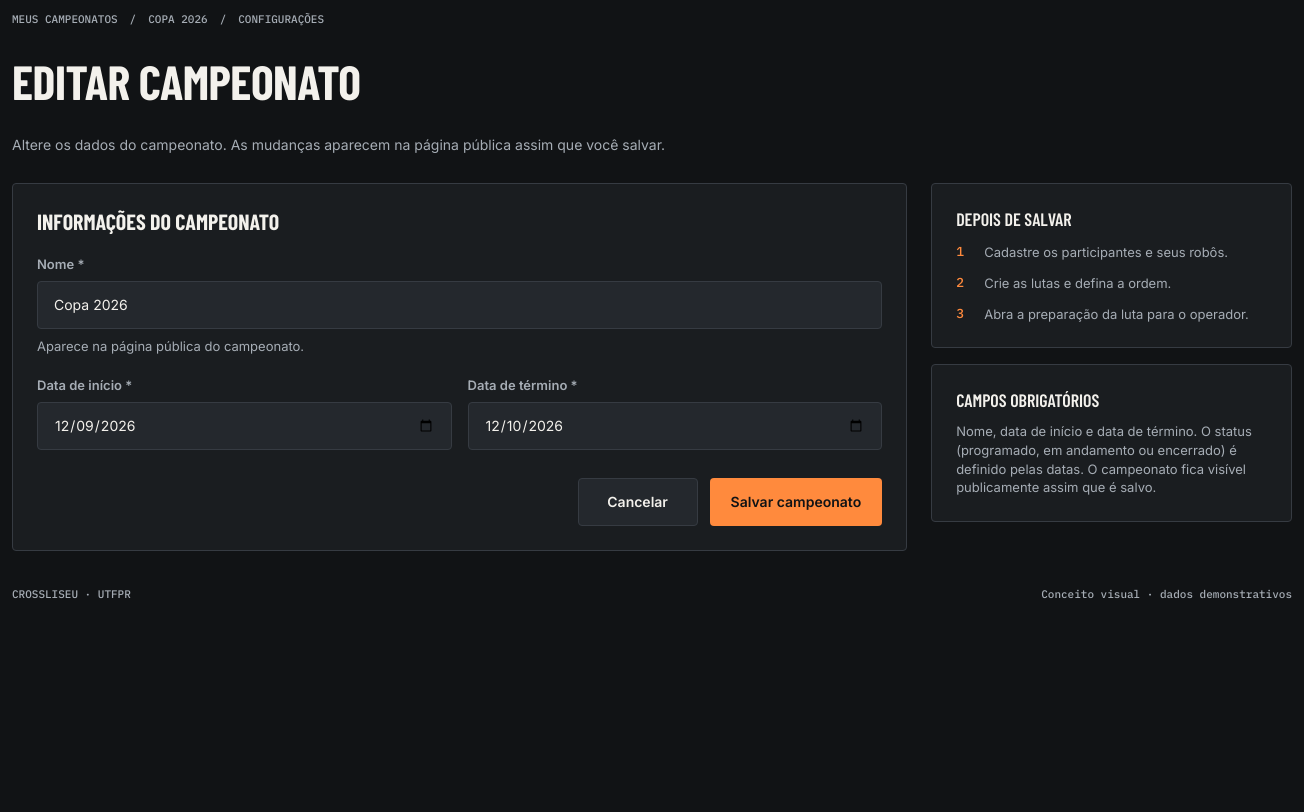
ChampionshipFormView › edit: saves, stays on the page and keeps the confirmation visible
The width and height of the screenshot is (1304, 812).
Replace the text in the field named "name" with "Copa Nova" at (460, 305), box [37,281,882,329]
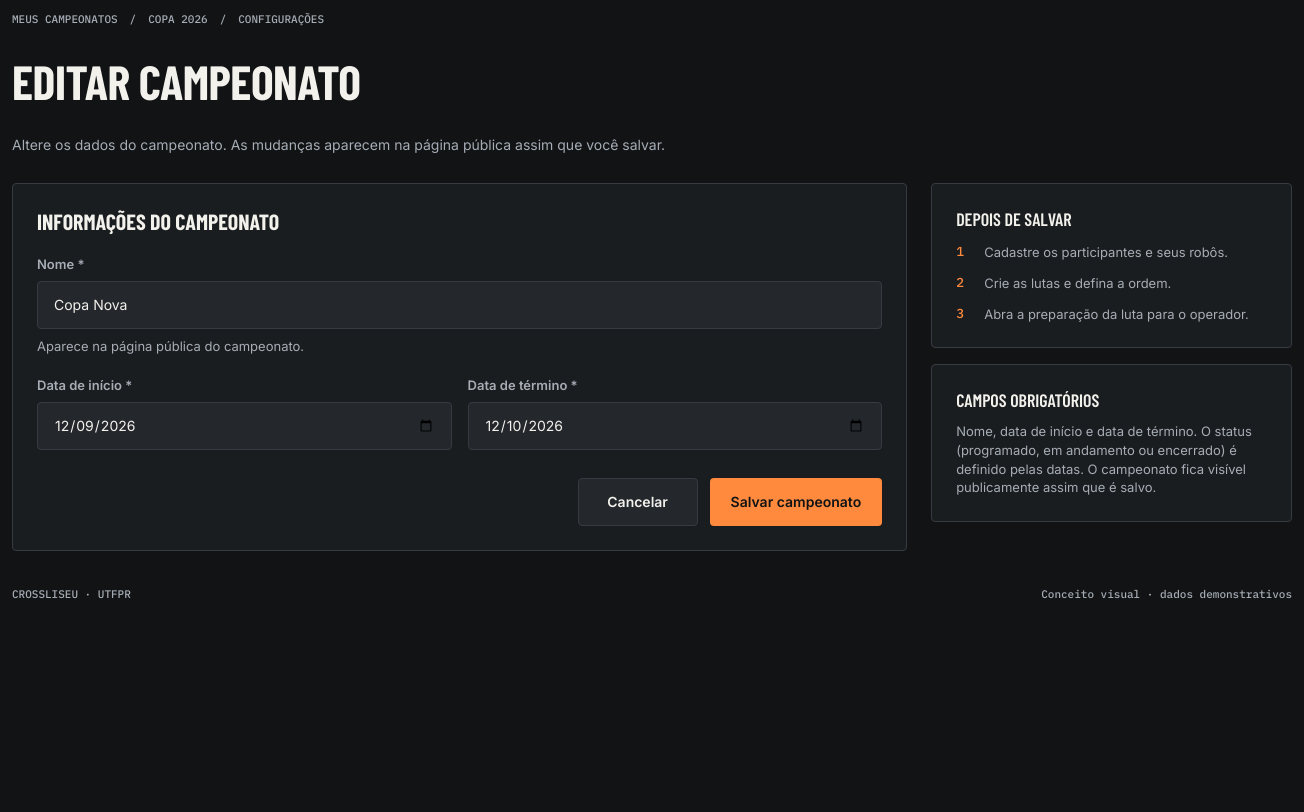
Submit the form, box [12,183,907,551]
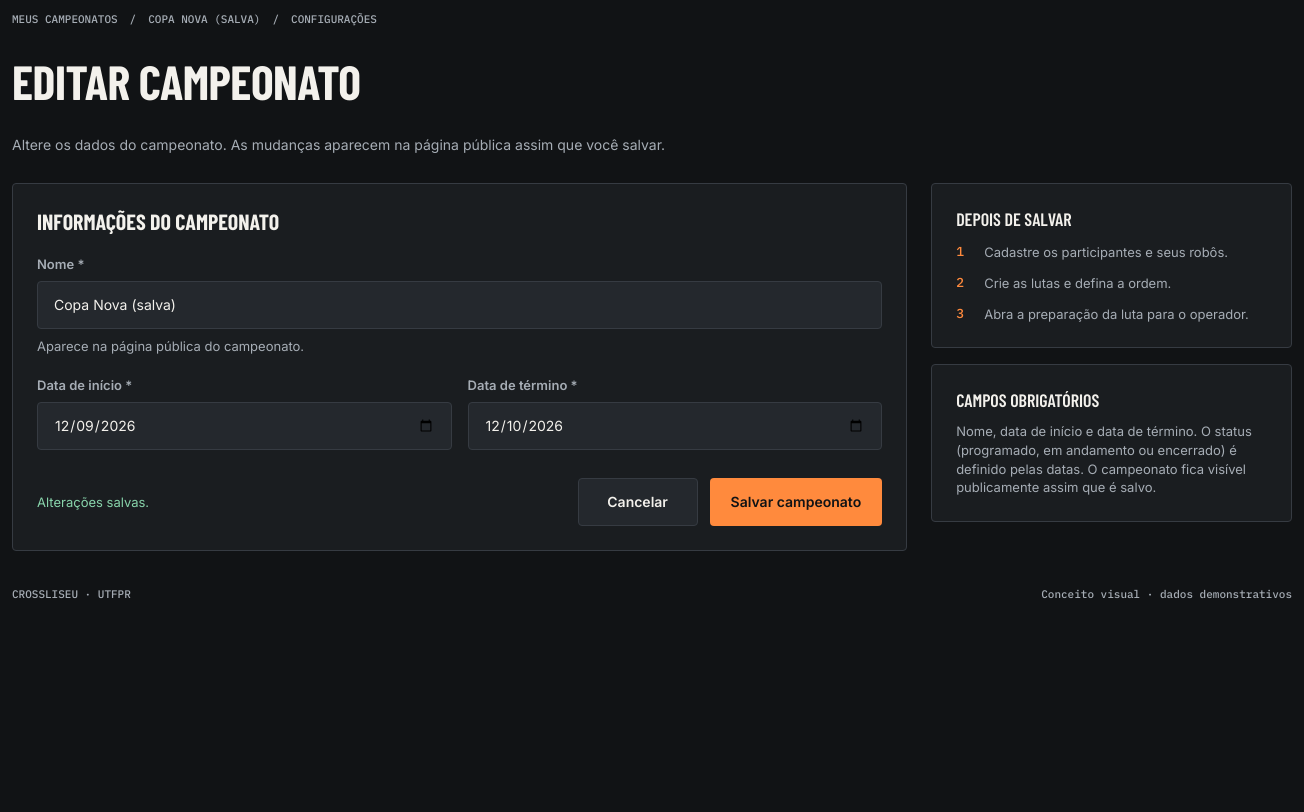
expect the field named "name" holds "Copa Nova (salva)": met, box [37,281,882,329]
expect the message "Alterações salvas." is shown: met, box [37,492,149,511]
